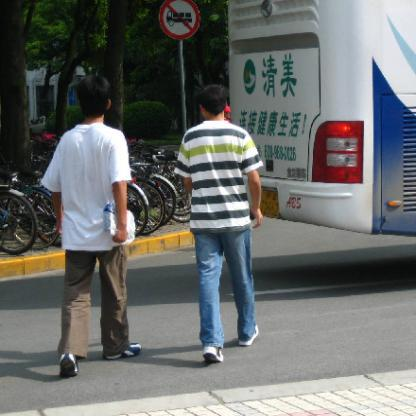person: (37, 71, 145, 375), (164, 85, 272, 367)
